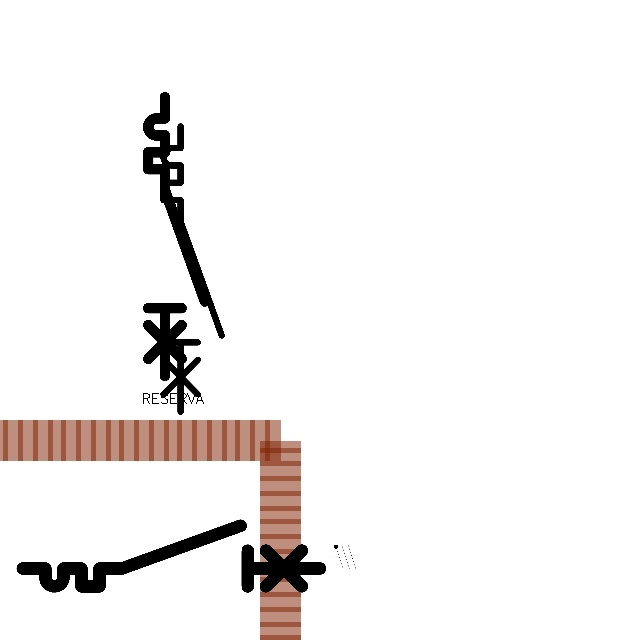interruptor_termomagnetico: (15, 518, 327, 594), (156, 119, 229, 419), (141, 90, 212, 383)
